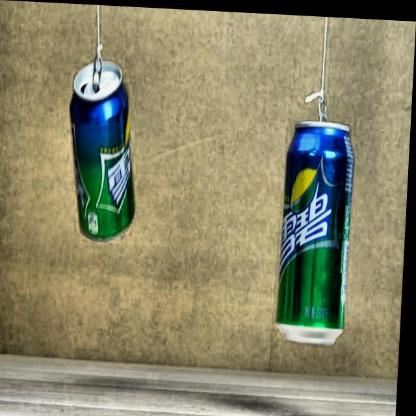Can: (274, 121, 354, 348), (69, 60, 135, 240)
